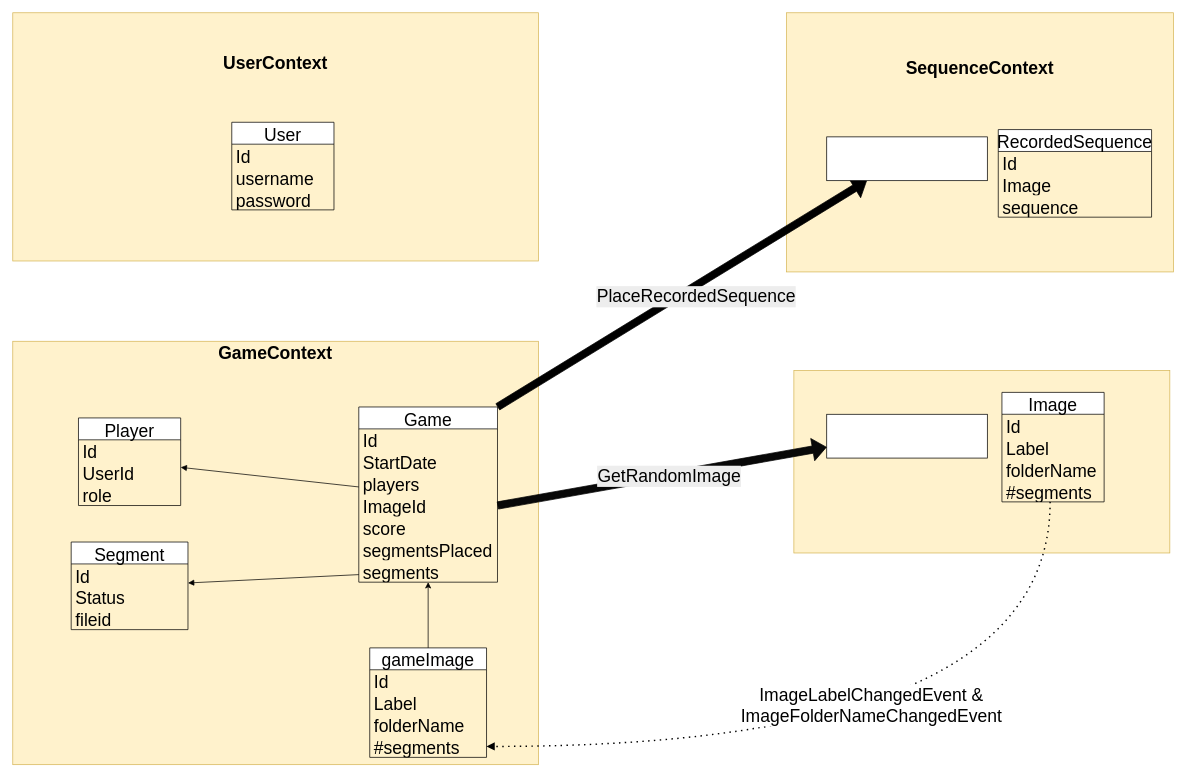
The diagram is 1186 pixels wide and 777 high, and some of its shapes have lost their labels. Each missing label, with the centre of its shape:
"IImageService" belongs at point (906, 436).
"ISequenceService" belongs at point (906, 158).
